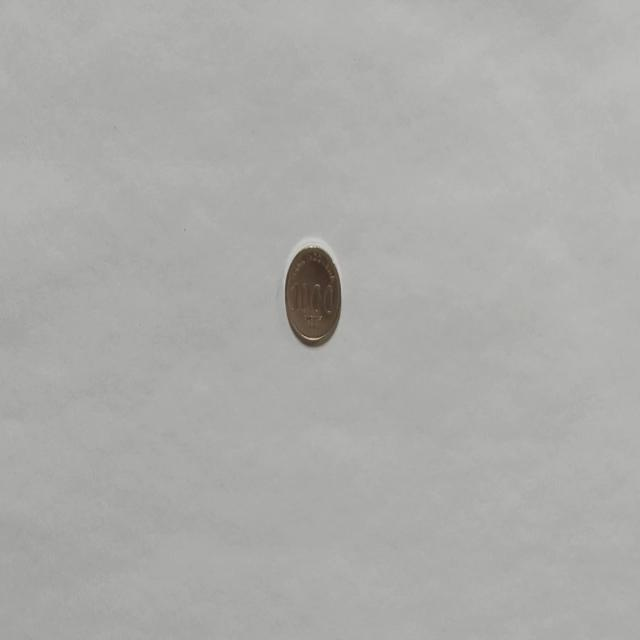seribu rupiah koin: (283, 238, 342, 347)
